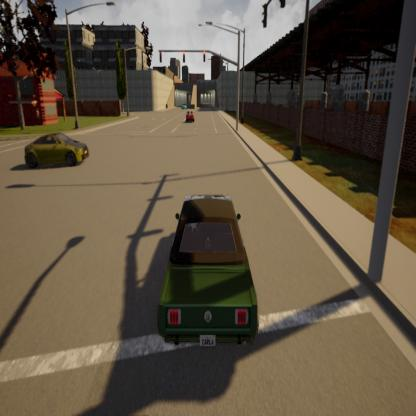Cars: (152, 186, 262, 362), (184, 110, 196, 124), (181, 102, 187, 108)
